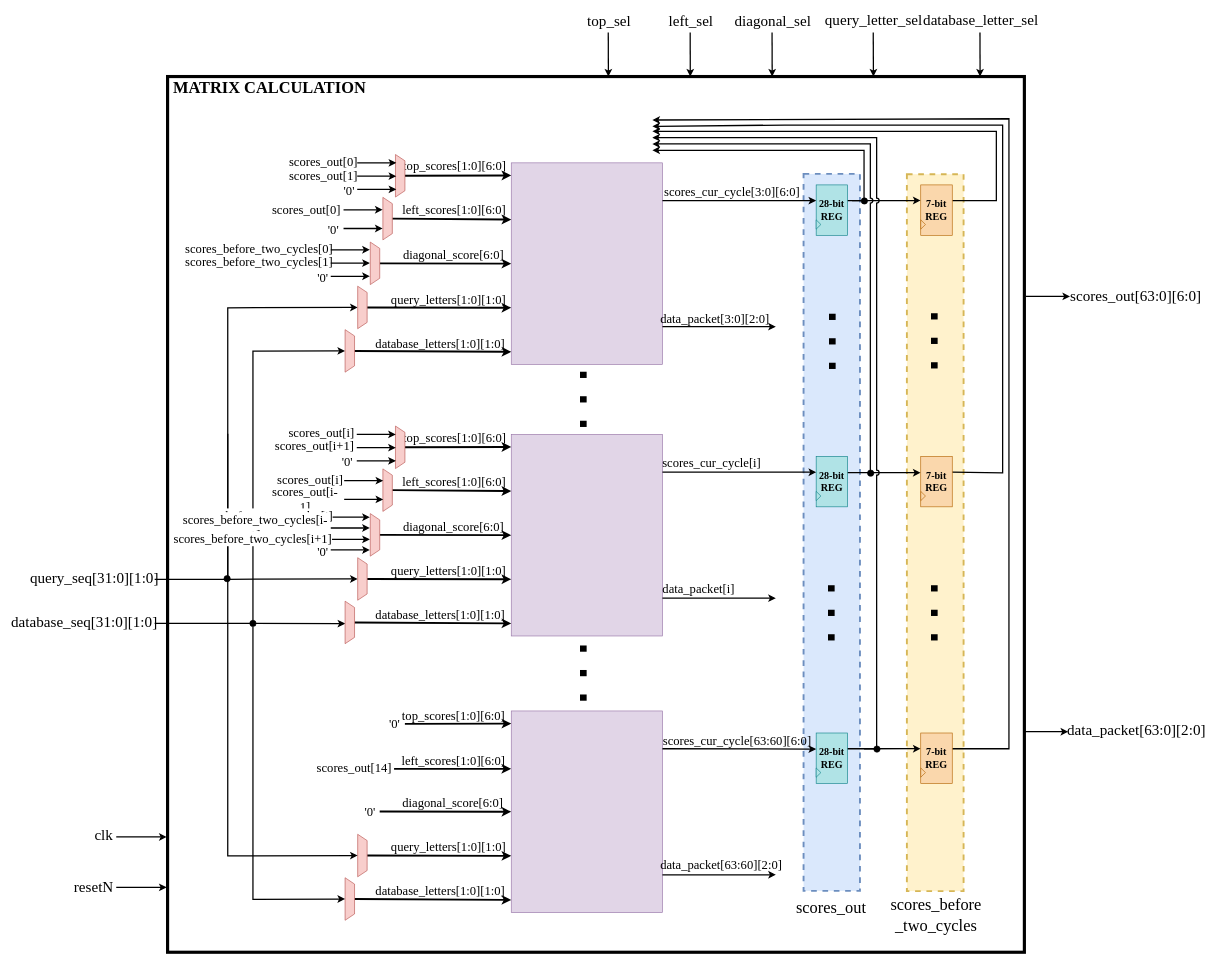
This 1217x965 diagram has some shape labels left out. The box of each missing label's shape, as (x1, y1, x2, y2) in pixels:
Processing Unit 0: (511, 162, 662, 364)
Processing Unit 15: (511, 710, 662, 913)
Processing Unit i: (511, 434, 662, 636)
